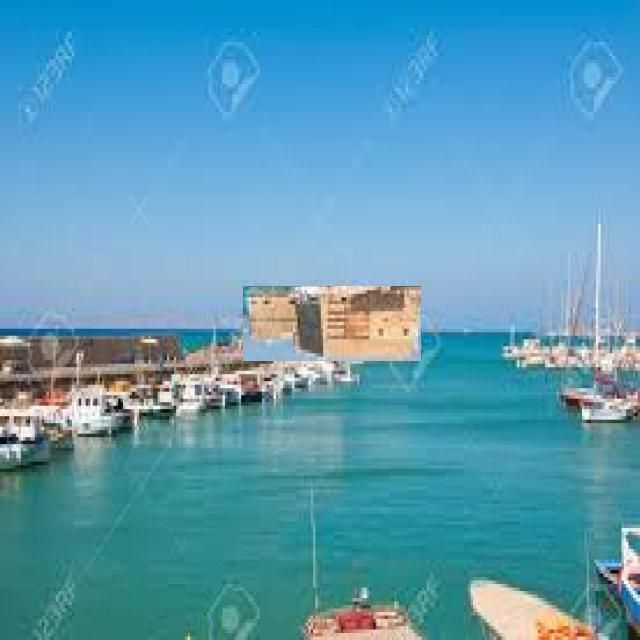Kules: (244, 287, 422, 362)
